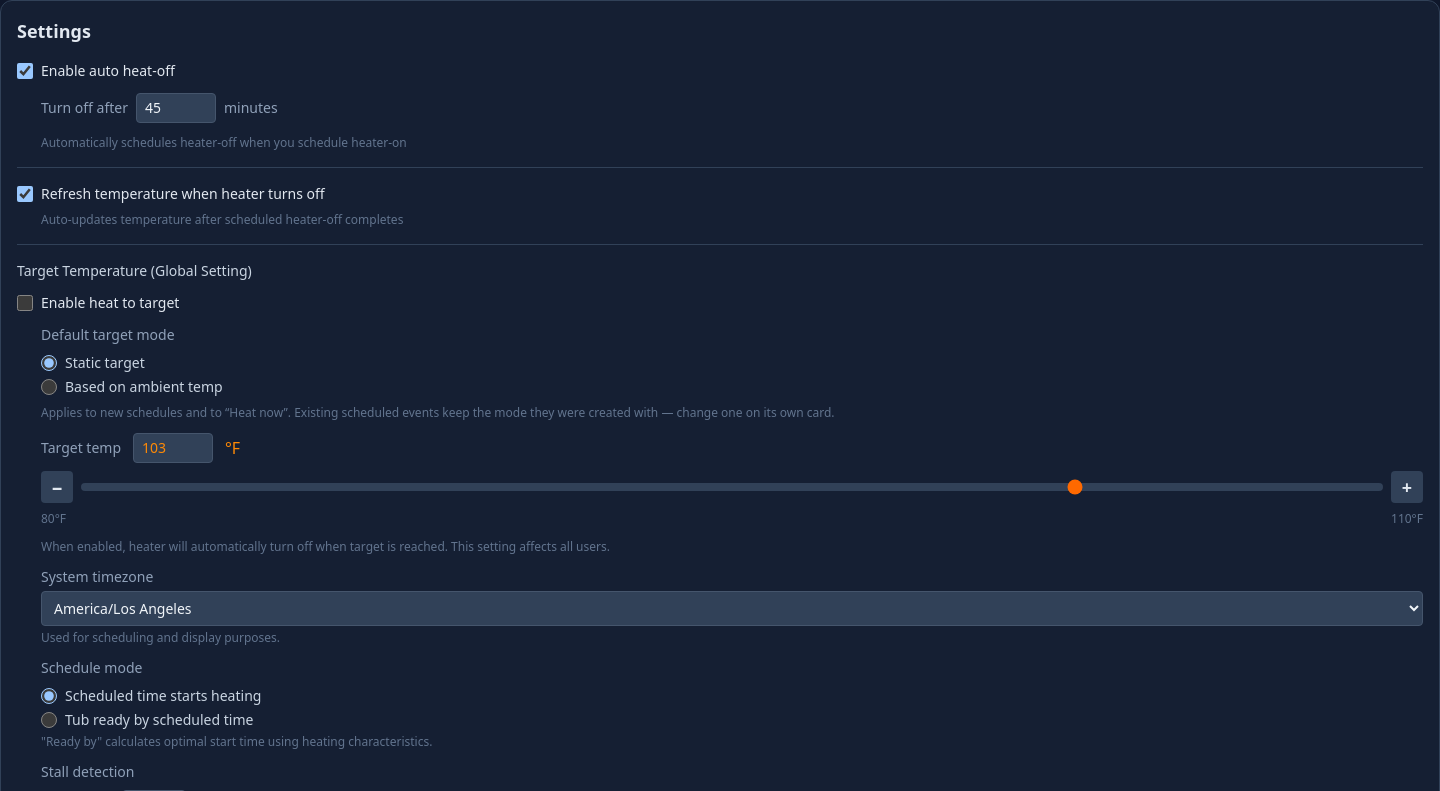
Test case: SettingsPanel › temperature increment/decrement buttons › decrease button lowers temperature by 0.25
Click the button named "decrease temperature" at (57,487), box [41,471,73,503]
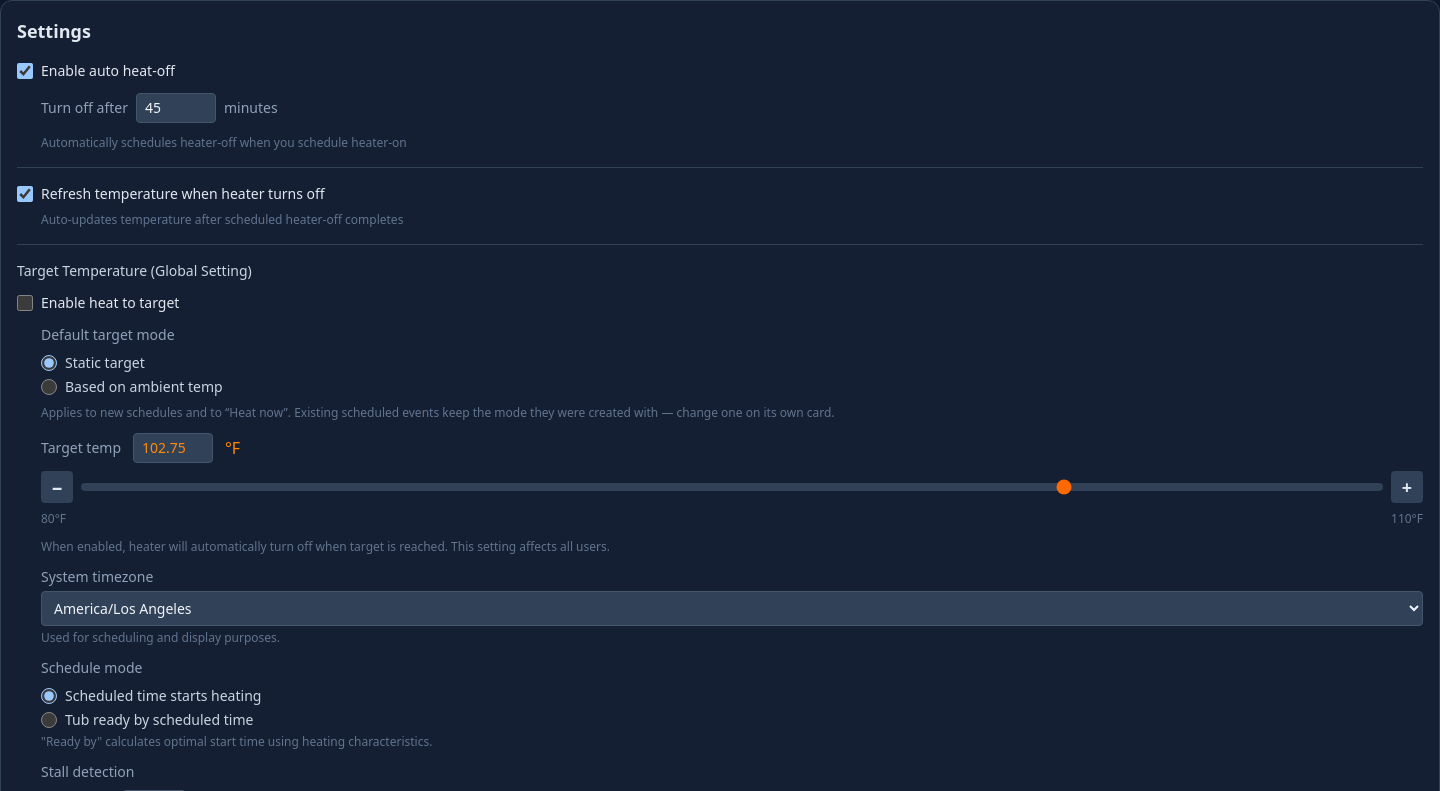
expect the number field named "target temp input" holds "102.75": met, box [133,433,213,463]
